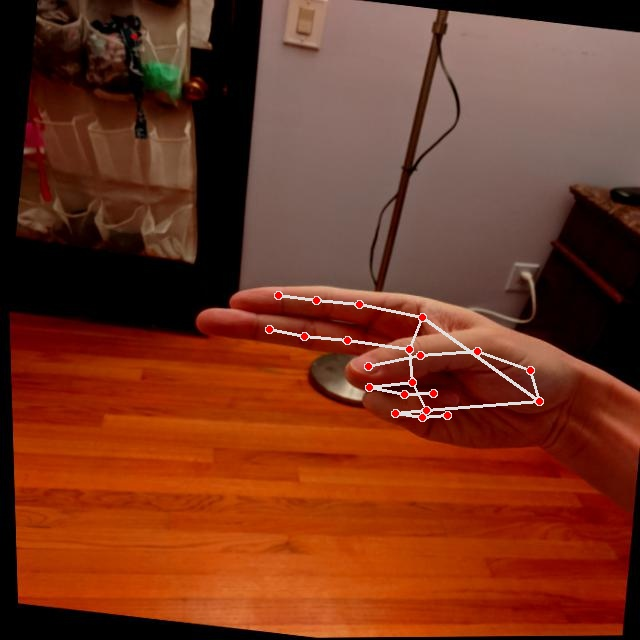H: (170, 261, 575, 469)
